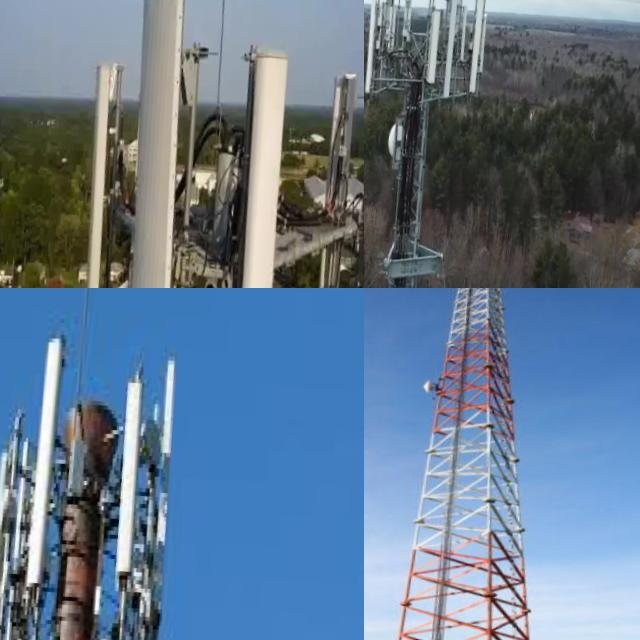GSM Antenna: (70, 0, 231, 288), (173, 46, 321, 288), (0, 334, 83, 603), (51, 58, 138, 288), (285, 73, 364, 288), (90, 374, 157, 584), (327, 34, 364, 288), (0, 438, 23, 640), (453, 0, 492, 99), (149, 356, 184, 465), (429, 0, 463, 107), (364, 0, 388, 102), (417, 11, 444, 96), (390, 0, 419, 53)
Microwave Antenna: (373, 120, 408, 190), (407, 375, 444, 410)
